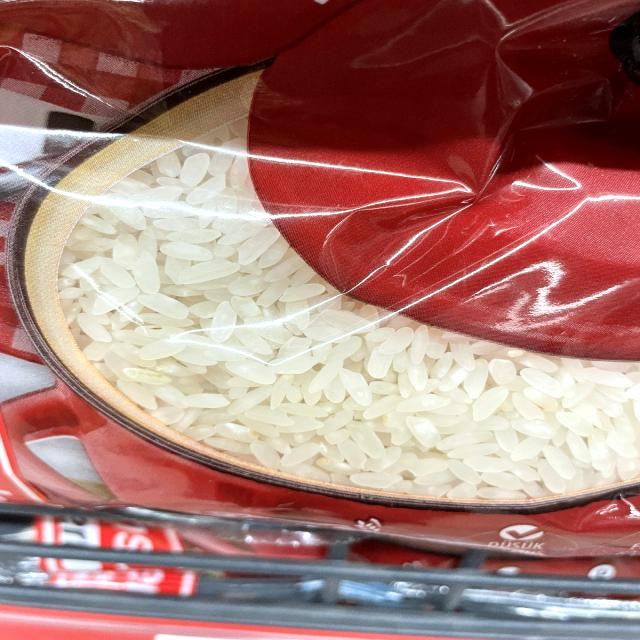rice: (120, 224, 269, 378)
